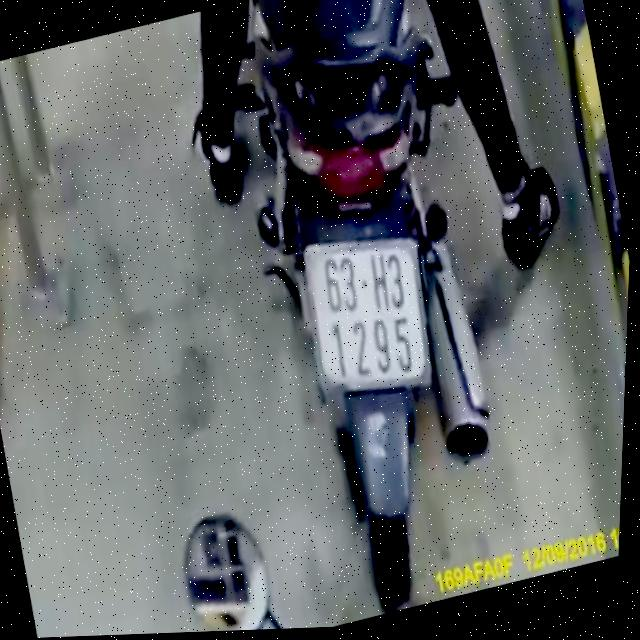motorcycle: (177, 0, 570, 633)
plate: (293, 212, 449, 413)
